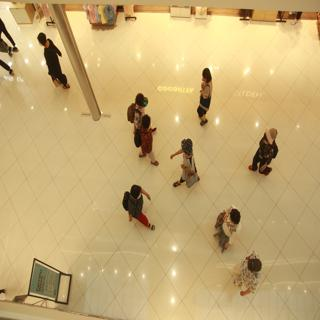person: (27, 25, 76, 103), (120, 177, 160, 236), (225, 247, 267, 301), (196, 58, 225, 135), (251, 123, 281, 179), (209, 201, 239, 257), (133, 110, 162, 166)
